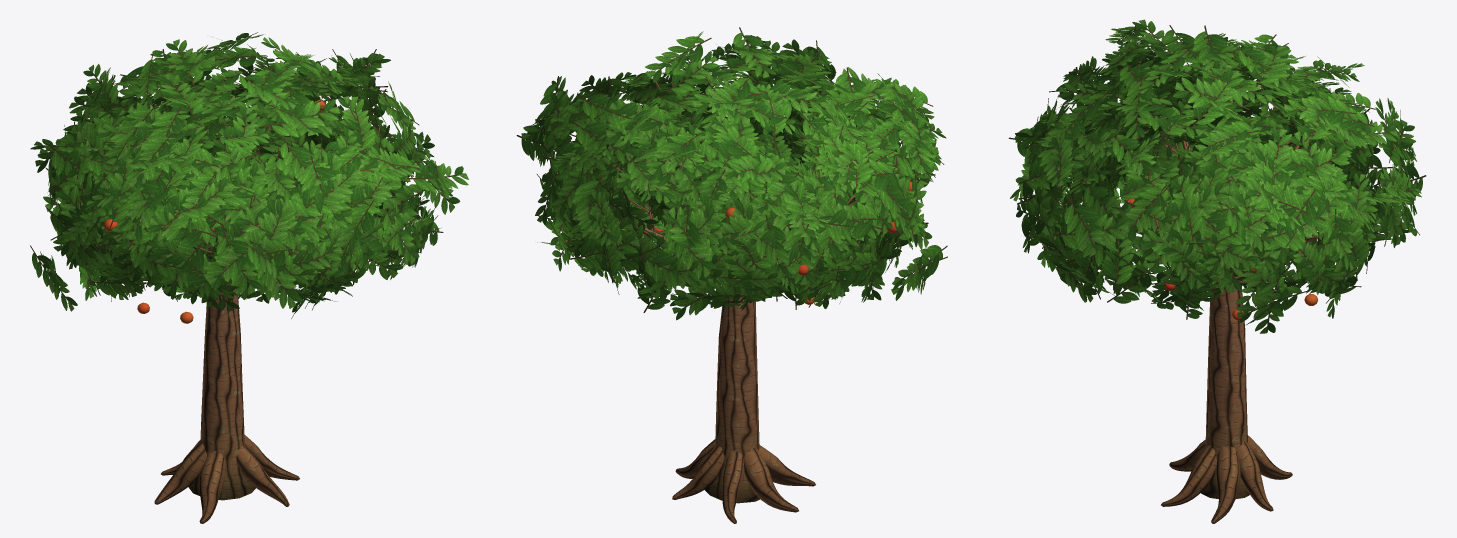
The model's file is tree.glb.
3 renders of one model, left to right at view 1: azimuth 30°, elevation 25°; view 2: azimuth 150°, elevation 25°; view 3: azimuth 270°, elevation 25°, orthographic.
Parts seen in each view (by area): view 1: Leaves, Trunk, Roots; view 2: Leaves, Trunk, Roots; view 3: Leaves, Trunk, Roots, Branches.
Part boxes in pixels (x1,y1,x2,y2): Leaves: (30, 32, 468, 318); Trunk: (188, 283, 255, 500); Roots: (154, 435, 299, 523); Leaves: (516, 27, 947, 320); Trunk: (704, 279, 760, 503); Roots: (672, 439, 815, 523); Leaves: (1008, 19, 1426, 333); Trunk: (1201, 284, 1249, 499); Roots: (1161, 435, 1292, 523); Branches: (1060, 86, 1332, 289).
Bounding box in the file's own units: 5.64 × 6.18 × 5.45.
3 materials, 2 textured.
